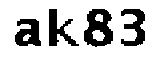3: (119, 5, 148, 49)
8: (83, 4, 114, 51)
a: (13, 15, 43, 53)
k: (46, 6, 79, 50)
